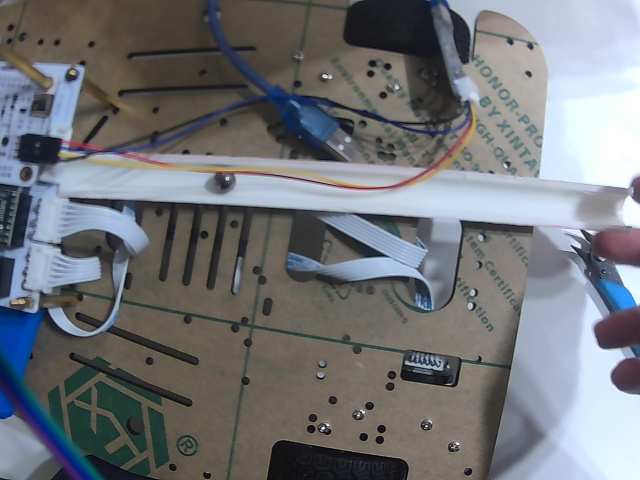steelball: (211, 172, 237, 193)
